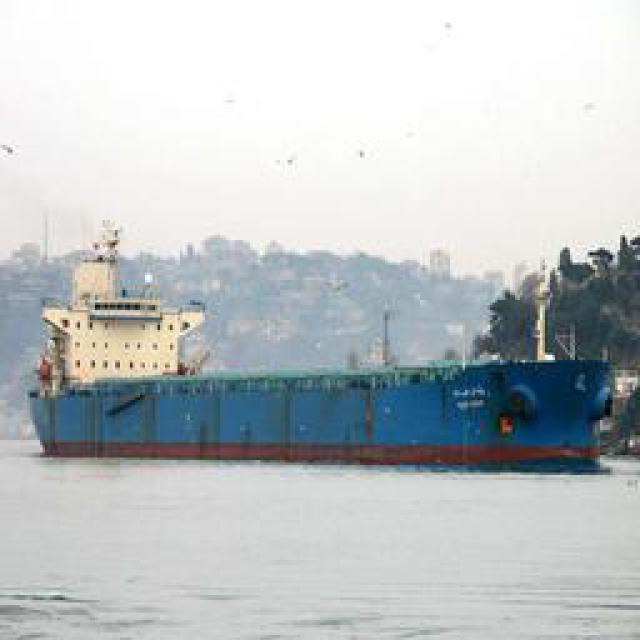Ship: (19, 335, 624, 475)
